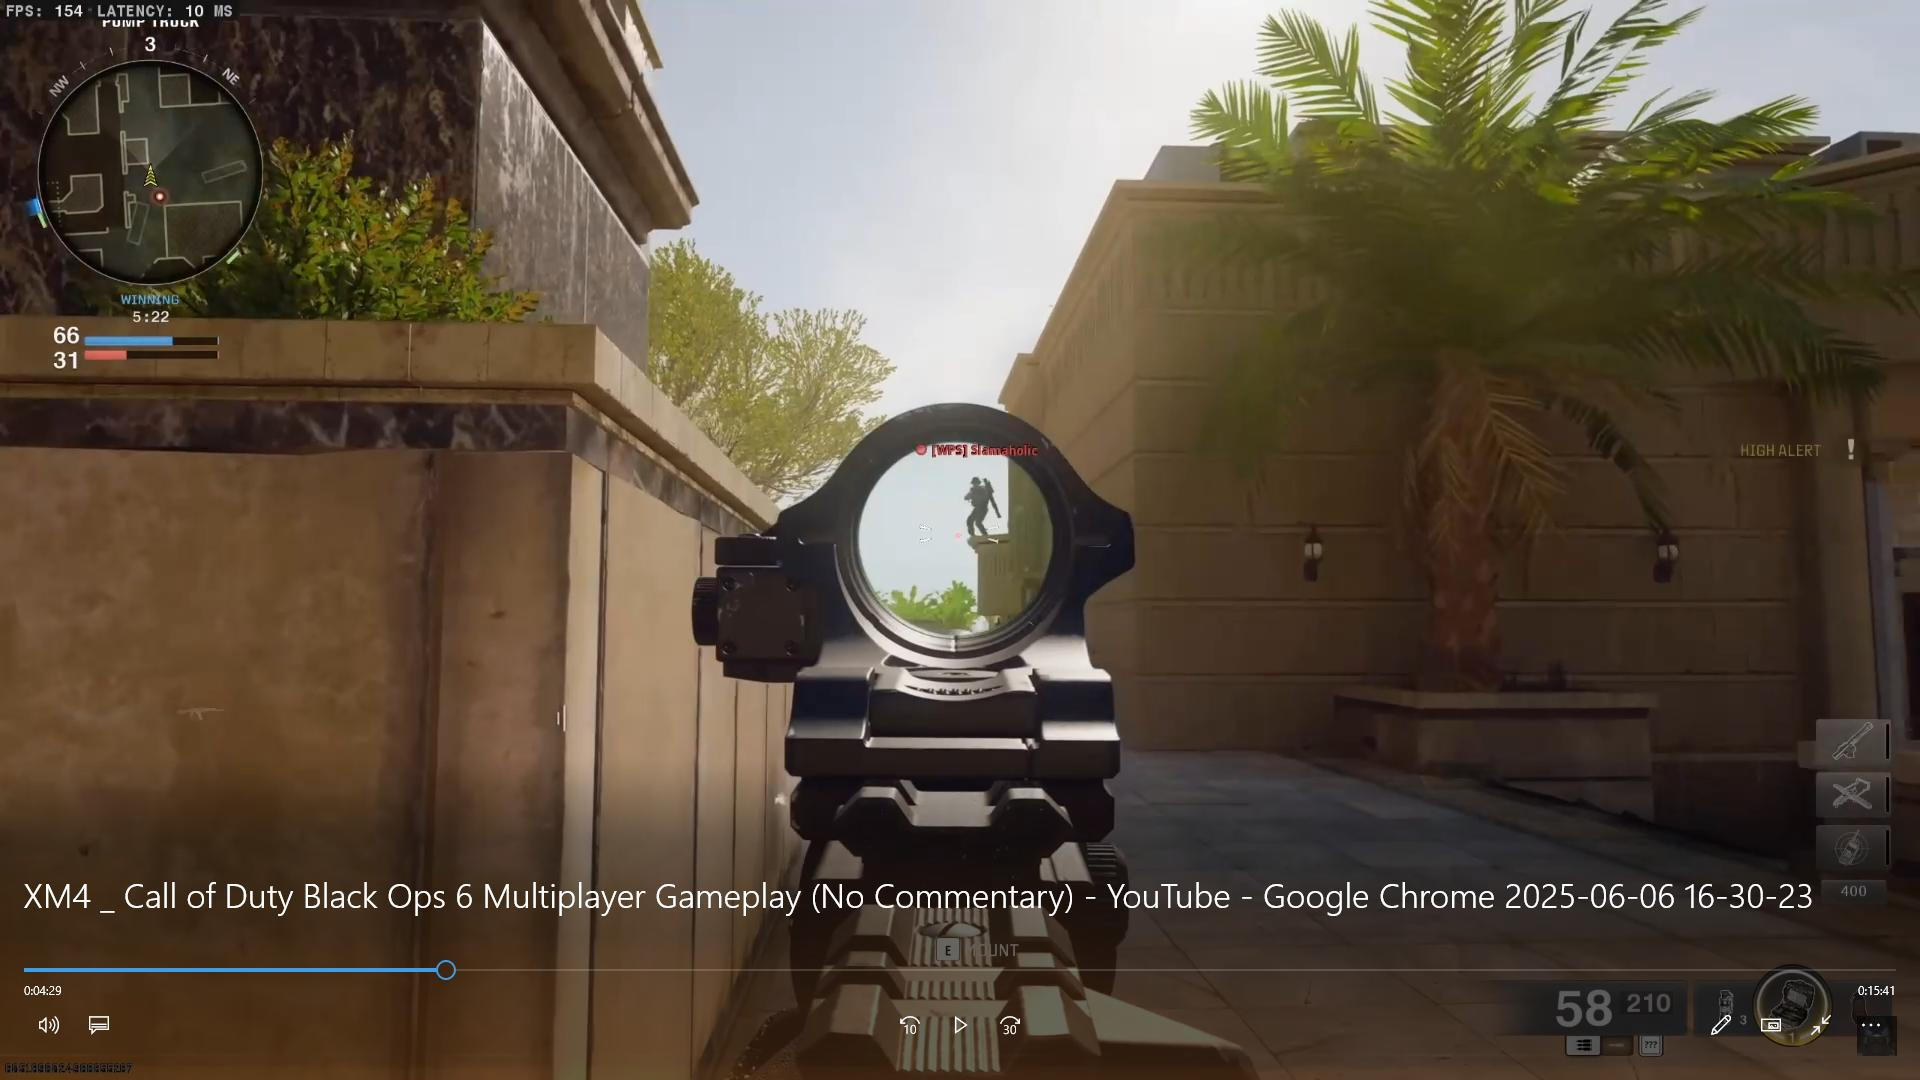Enemy: (928, 439, 1014, 550)
